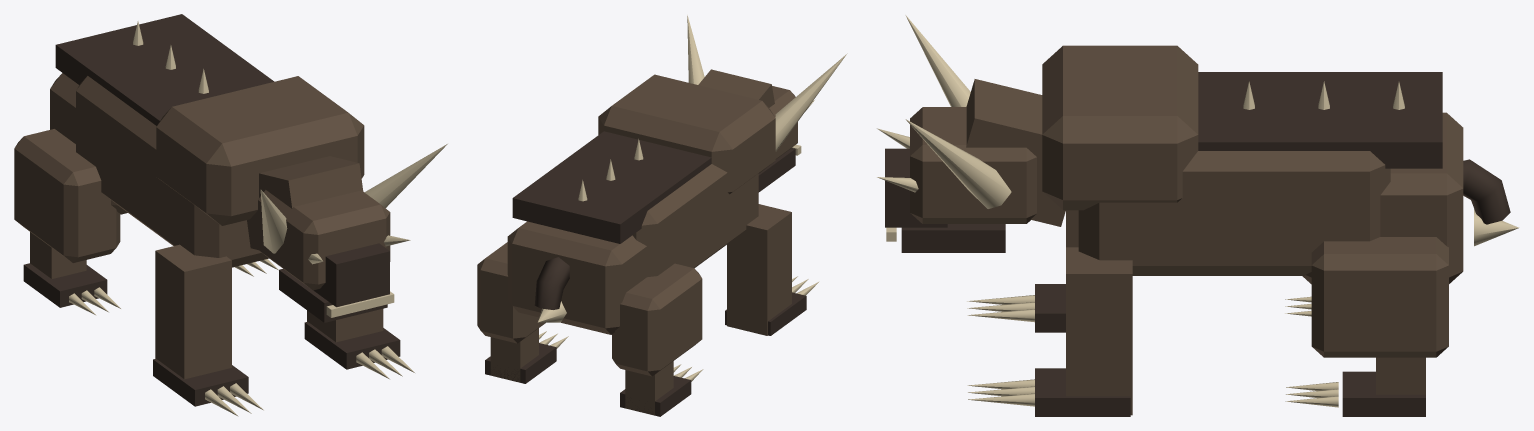
3 renders of one model, left to right at view 1: azimuth 30°, elevation 25°; view 2: azimuth 150°, elevation 25°; view 3: azimuth 270°, elevation 25°, orthographic. The views are drawn at different scales.
Visible parts, largest first — view 1: survival_klauwbeest; view 2: survival_klauwbeest; view 3: survival_klauwbeest.
Part boxes in pixels (<box>): survival_klauwbeest: <box>14,14,447,416</box>; survival_klauwbeest: <box>477,15,847,416</box>; survival_klauwbeest: <box>877,15,1519,416</box>.
Size of the model in its own units: 1.36 by 1.56 by 3.09.
